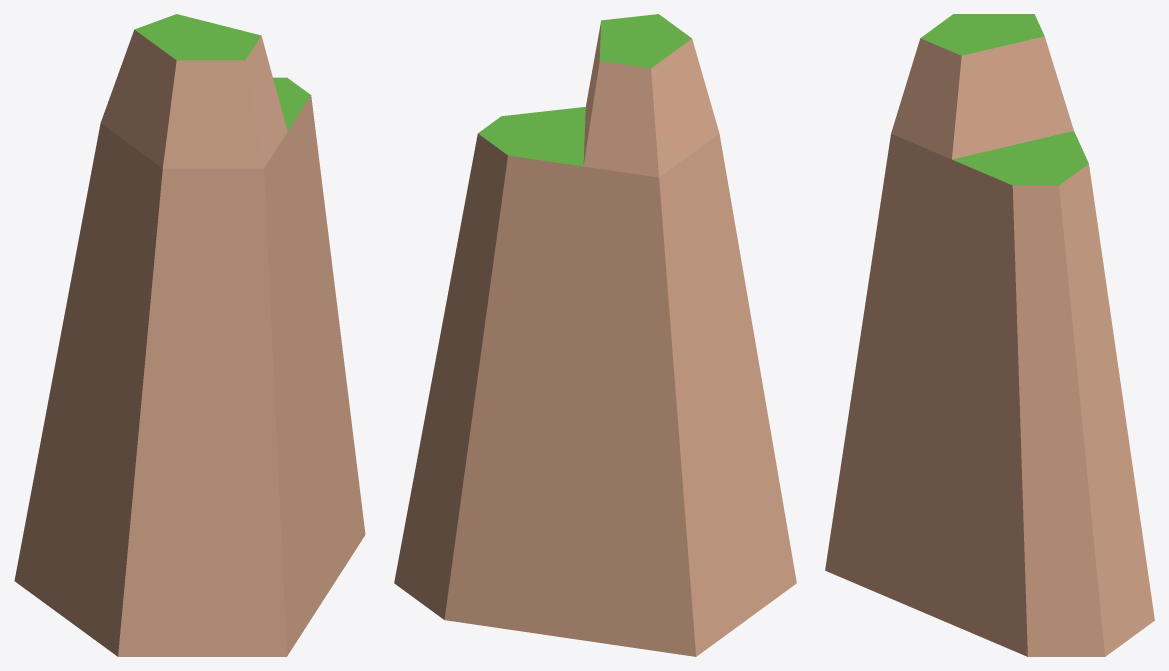
File: rock_3.fbx
3 renders of one model, left to right at view 1: azimuth 30°, elevation 25°; view 2: azimuth 150°, elevation 25°; view 3: azimuth 270°, elevation 25°, orthographic. The views are drawn at different scales.
Parts seen in each view (by area): view 1: rock_3; view 2: rock_3; view 3: rock_3.
Part boxes in pixels (x1=…): rock_3: x1=14, y1=14, x2=365, y2=656; rock_3: x1=394, y1=14, x2=796, y2=656; rock_3: x1=825, y1=14, x2=1154, y2=656.
Bounding box in the file's own units: 0.4562 × 0.7829 × 0.4365.
Materials: 1 (1 with a texture image).
